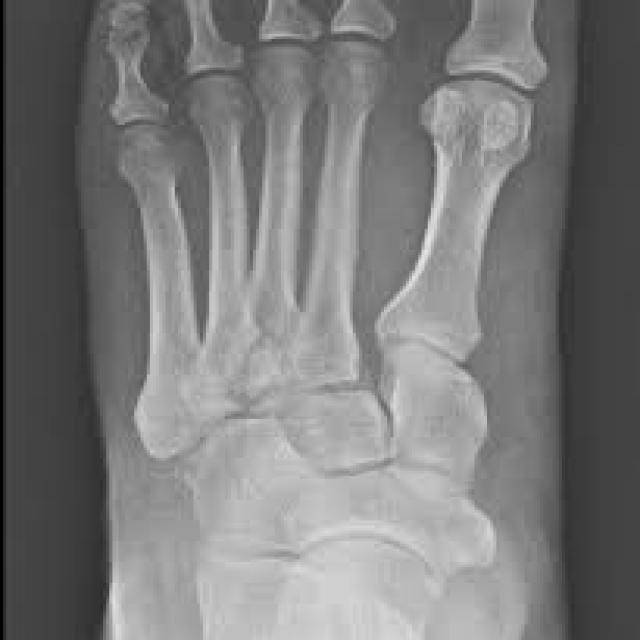Fracture: (128, 283, 516, 508)
